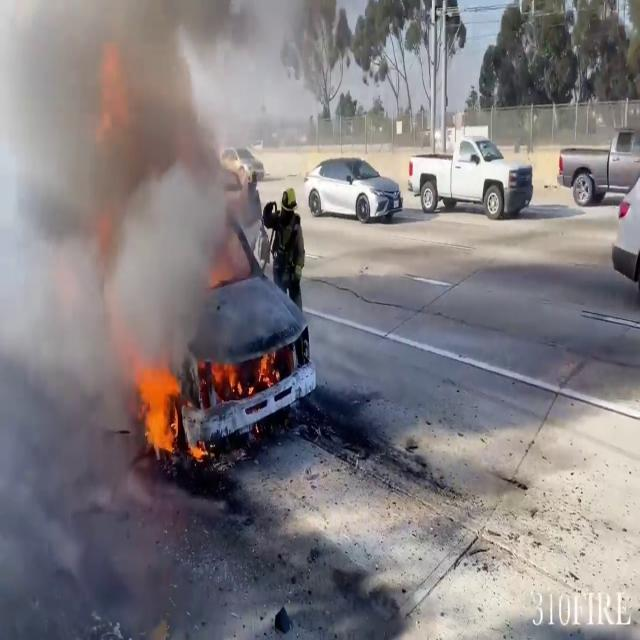Fire: (132, 355, 186, 465)
Smoke: (0, 0, 271, 469)
